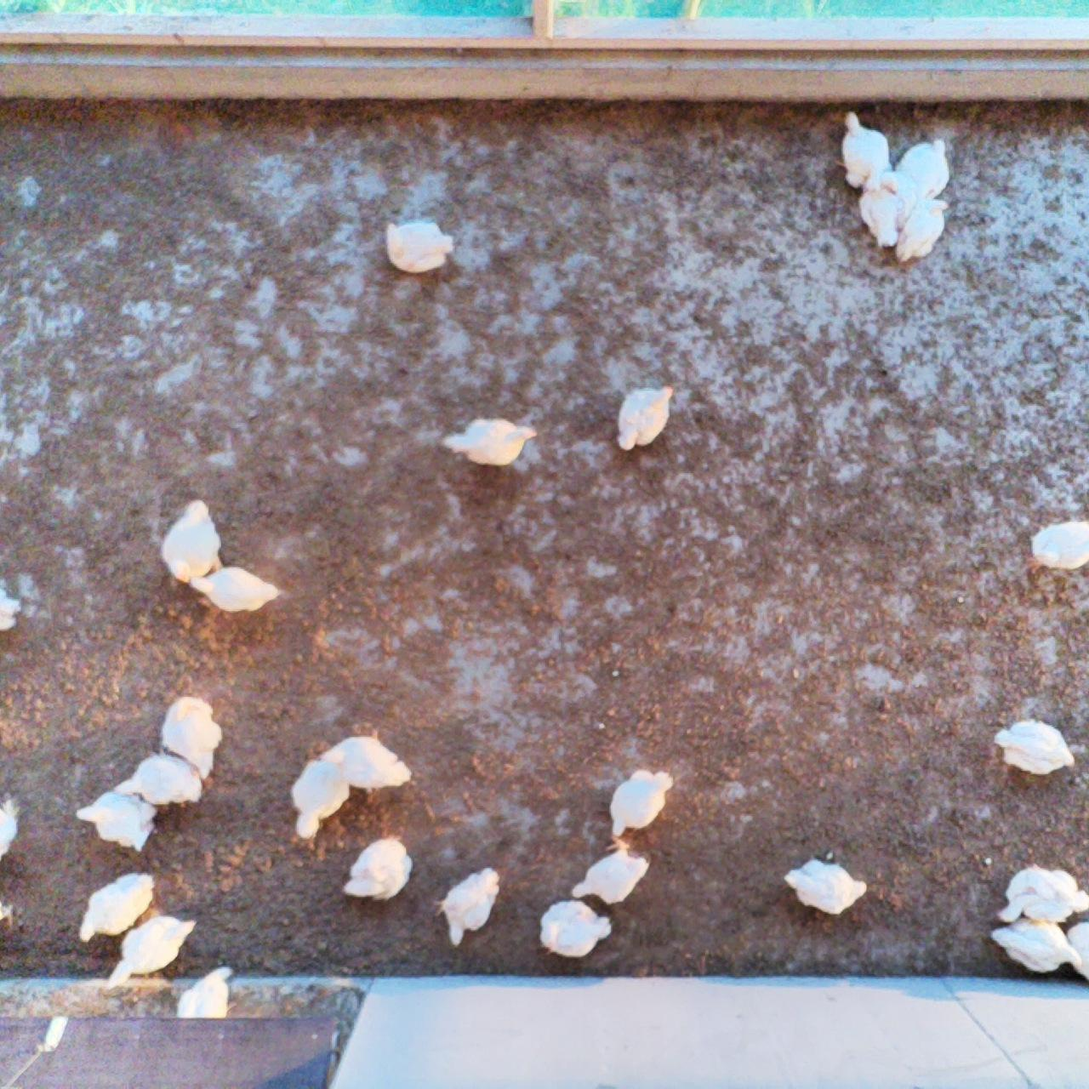chicken: (102, 913, 198, 991), (158, 499, 229, 591), (157, 694, 224, 789), (569, 832, 650, 907), (992, 864, 1089, 926), (76, 870, 158, 943), (319, 735, 412, 798), (434, 863, 502, 949), (989, 915, 1085, 975), (780, 856, 868, 919), (111, 752, 206, 810), (533, 895, 614, 963), (287, 756, 351, 840), (340, 836, 416, 905), (996, 717, 1079, 780), (440, 416, 539, 468), (607, 767, 676, 841), (186, 563, 284, 615), (74, 791, 157, 852), (831, 109, 892, 191), (173, 963, 237, 1041), (611, 383, 676, 452), (853, 164, 903, 249), (893, 137, 951, 208), (383, 217, 454, 275), (891, 195, 951, 262), (1028, 516, 1089, 572), (871, 166, 919, 237), (1062, 915, 1089, 990), (0, 789, 20, 869), (0, 569, 23, 637)
